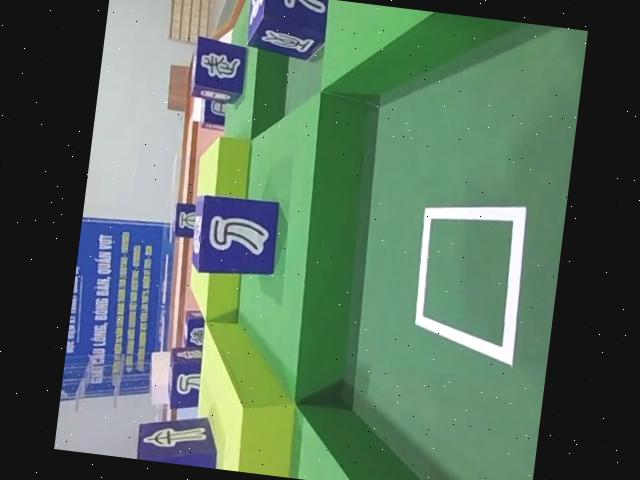R2 Fake Blue: (188, 192, 283, 283), (136, 411, 228, 470), (241, 0, 329, 58), (186, 39, 248, 106), (165, 347, 208, 415), (169, 203, 199, 243)
